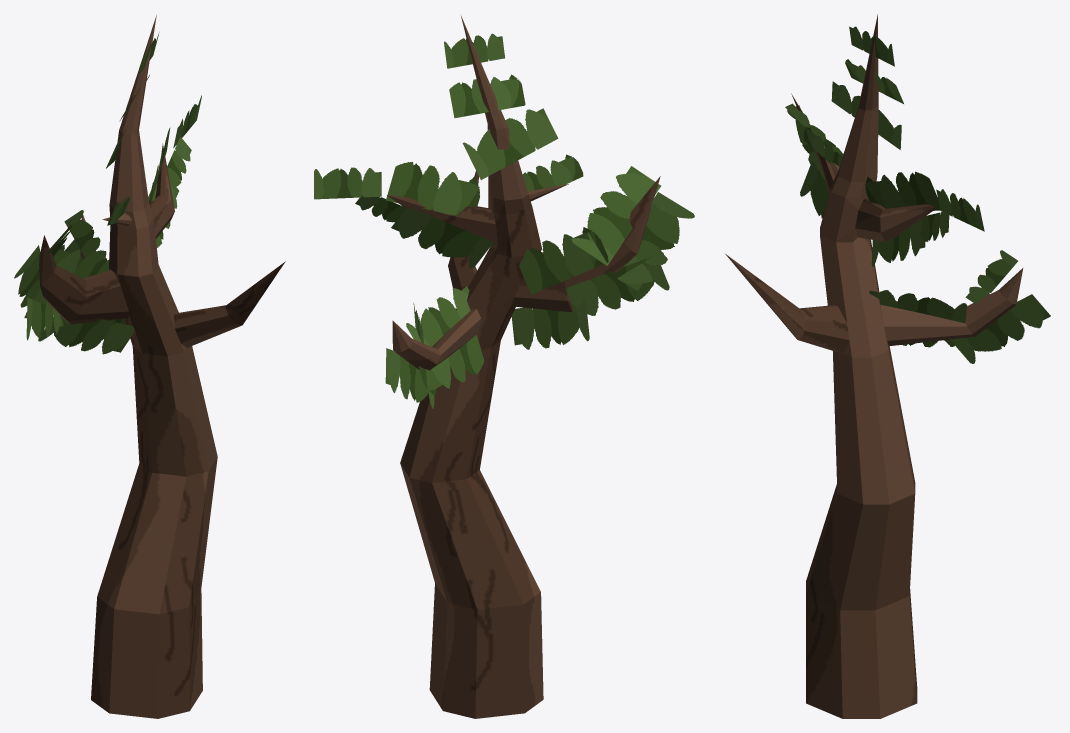
The model's file is tree1.fbx.
3 renders of one model, left to right at view 1: azimuth 30°, elevation 25°; view 2: azimuth 150°, elevation 25°; view 3: azimuth 270°, elevation 25°, orthographic. The views are drawn at different scales.
Parts seen in each view (by area): view 1: Cube; view 2: Cube; view 3: Cube.
Boxes of the visible parts, <box> form: Cube: <box>14,15,285,718</box>; Cube: <box>314,16,694,718</box>; Cube: <box>725,14,1050,718</box>.
Size of the model in its own units: 361 by 820 by 357.
Materials: 1 (1 with a texture image).
